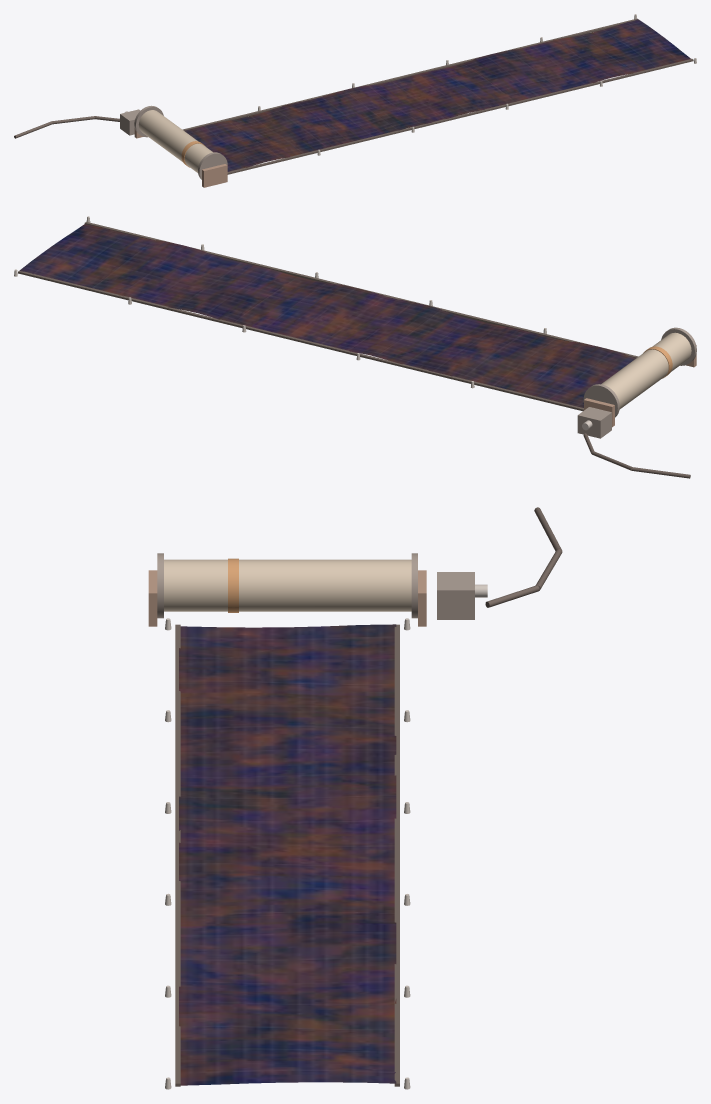
The model's file is E01_solar_blanket_10m.glb.
3 views of the same model, one above another, from view 1: azimuth 30°, elevation 25°; view 2: azimuth 150°, elevation 25°; view 3: azimuth 270°, elevation 25° (orthographic). The views are drawn at different scales.
Parts seen in each view (by area): view 1: solar_blanket, edge_hem, roller_cap, roller_stand; view 2: solar_blanket, edge_hem, roller_cap; view 3: solar_blanket, edge_hem, roller_cap, roller_stand, ground_peg.
Boxes of the visible parts, <box> form: solar_blanket: <box>184,19,690,171</box>; edge_hem: <box>14,18,693,174</box>; roller_cap: <box>120,105,227,179</box>; roller_stand: <box>134,128,227,187</box>; solar_blanket: <box>19,224,635,407</box>; edge_hem: <box>18,222,691,478</box>; roller_cap: <box>577,327,696,438</box>; solar_blanket: <box>179,624,396,1085</box>; edge_hem: <box>164,507,562,1086</box>; roller_cap: <box>157,553,474,619</box>; roller_stand: <box>148,570,426,626</box>; ground_peg: <box>165,584,487,1089</box>.
Size of the model in its own units: 12.54 by 0.5999 by 3.81.
5 materials, 1 textured.
